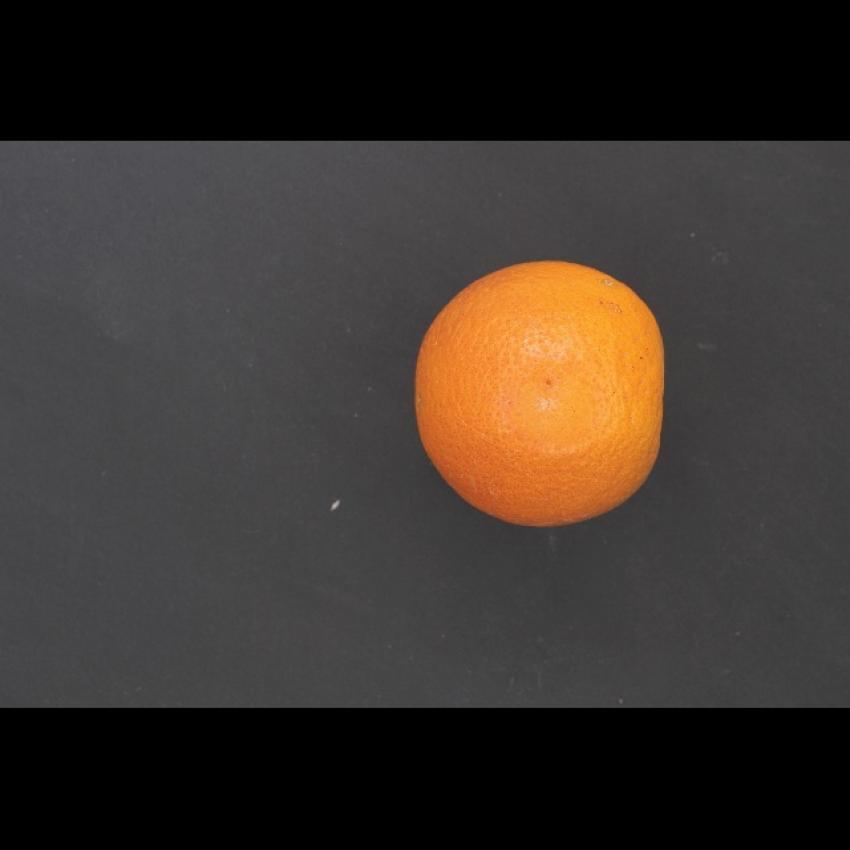Mal estado: (403, 251, 673, 539)
